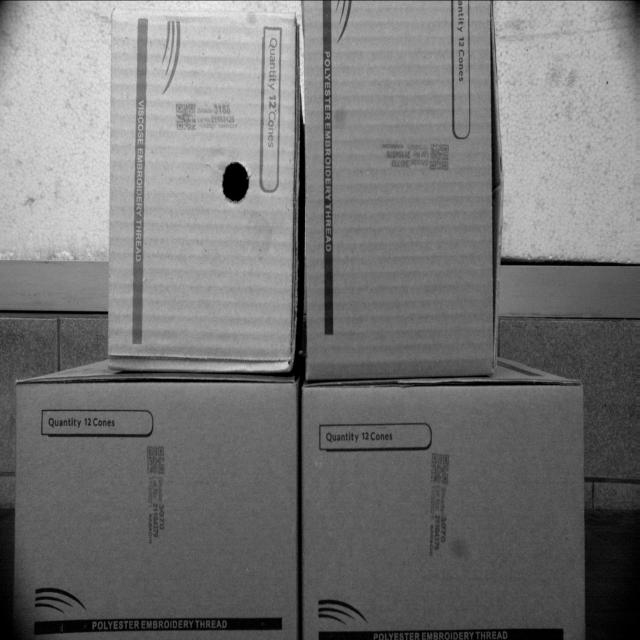cardboxes: (299, 0, 498, 375), (15, 381, 301, 639), (303, 384, 584, 639), (112, 8, 294, 367)
